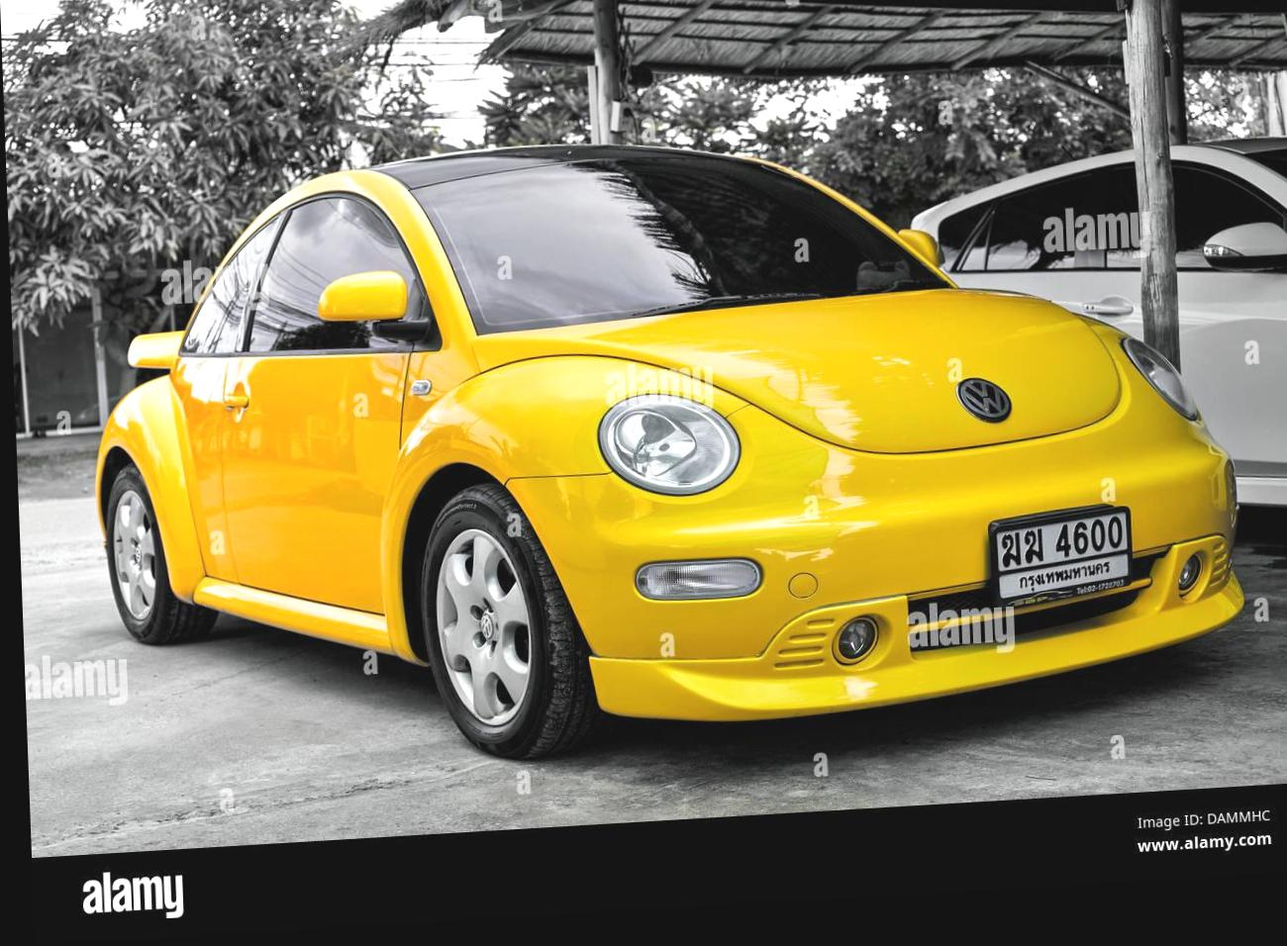License_Plate: (979, 502, 1141, 609)
